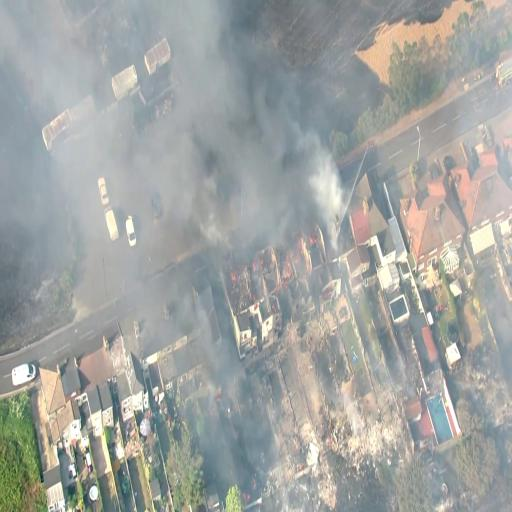smoke: (248, 112, 340, 216)
